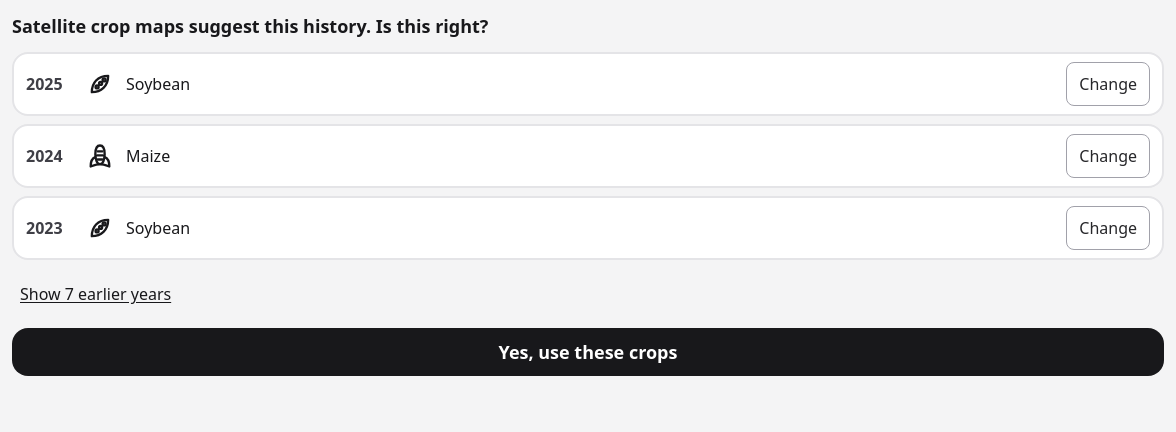
Test case: CropsStep with a proposed history (CropScape) › "Yes" stores the history with source cropscape
This screenshot has width=1176, height=432.
Click the button "Yes, use these crops" at (588, 352), box [12,328,1164,376]
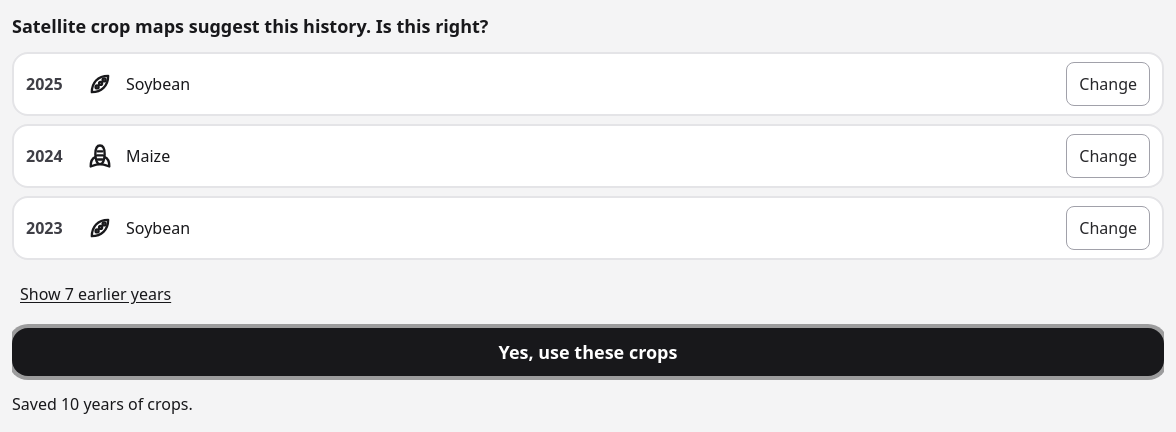
Now the text "Saved 10 years of crops." is shown, box [12,393,193,415]
